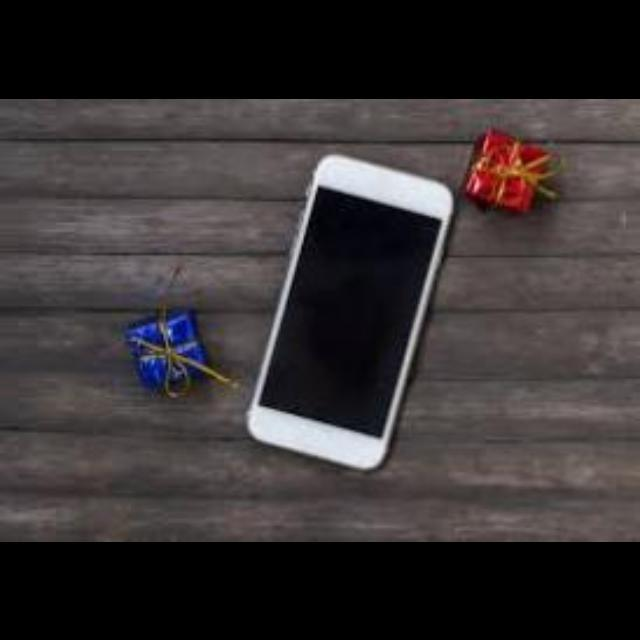Phone: (245, 153, 455, 470)
